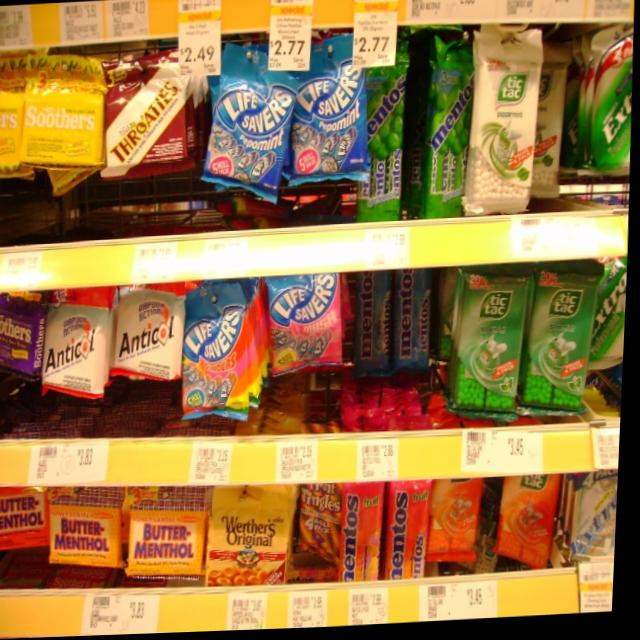q265: (129, 501, 214, 589), (44, 491, 128, 578)
q268: (462, 31, 546, 228)
